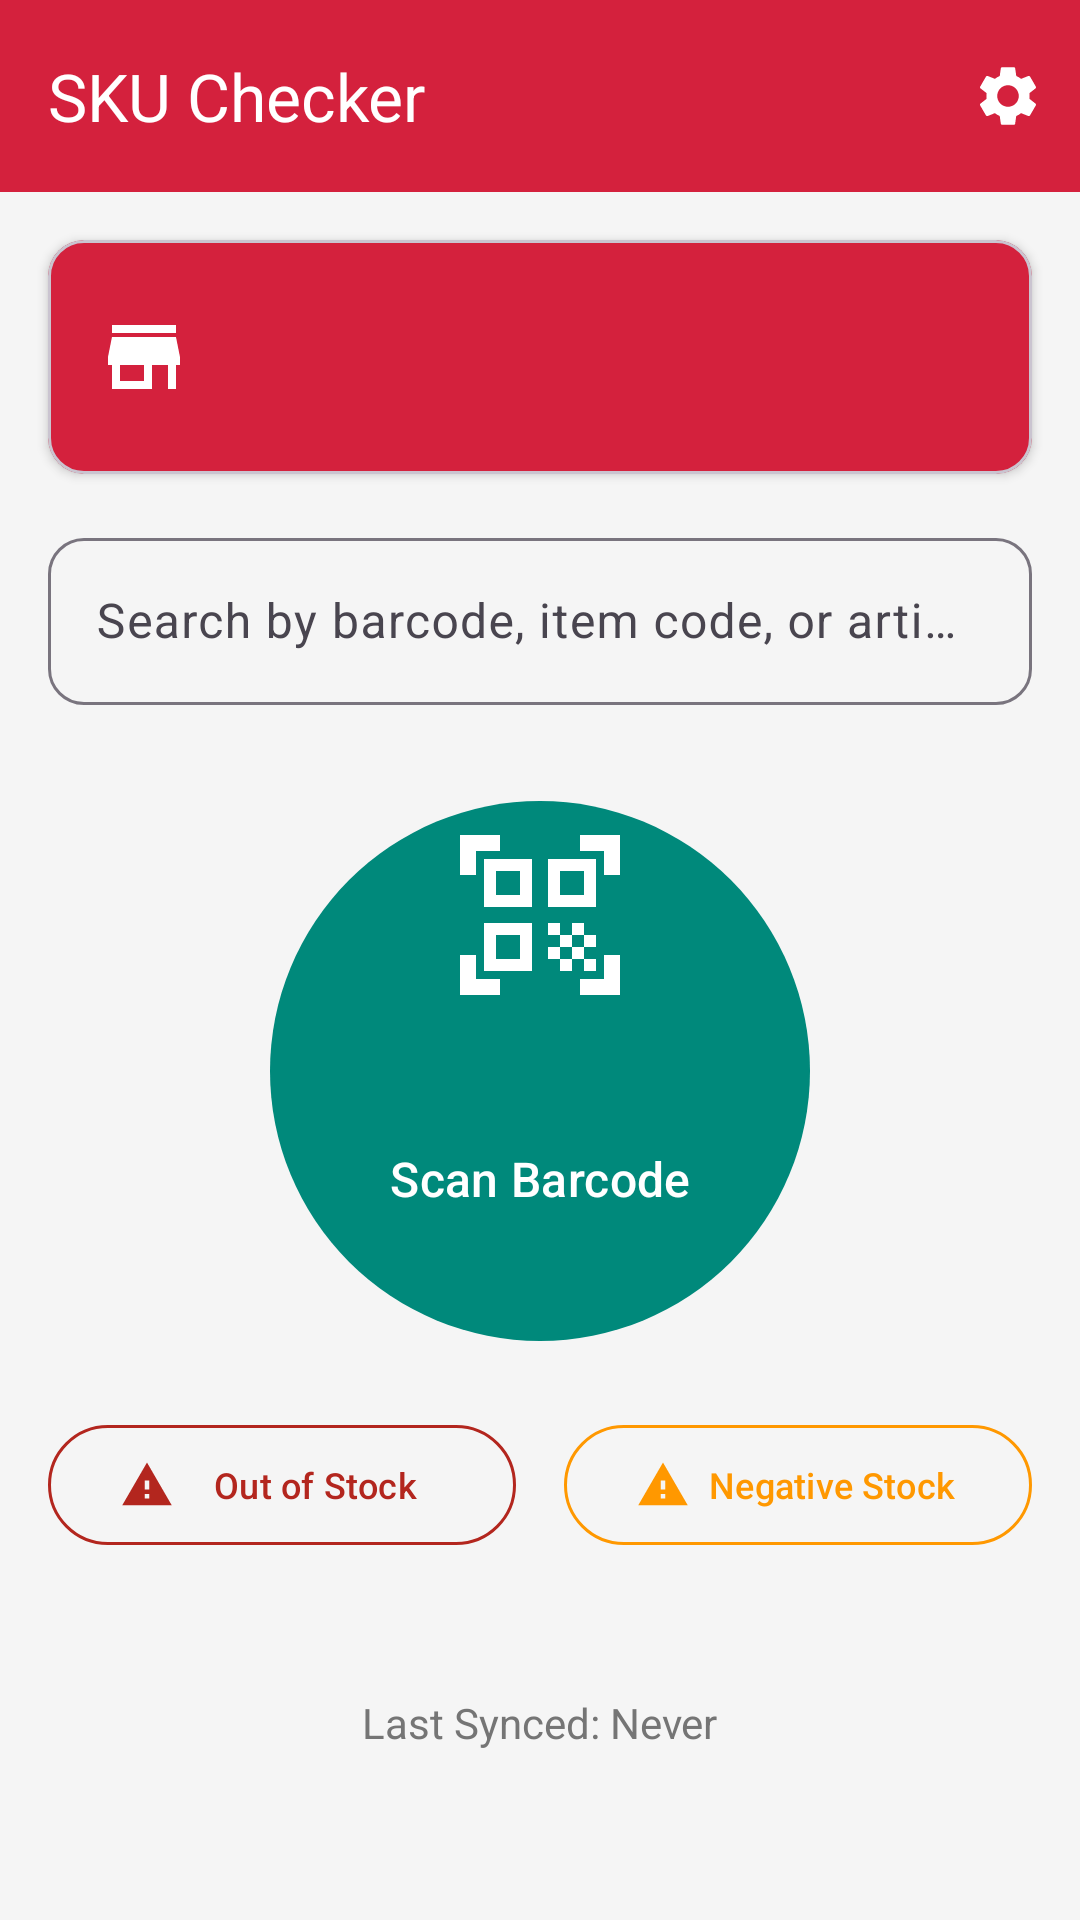

Locate icon controls on the screen. Image size 1080px x 1920px, boxes as (x1, y1, x2, y2).
Outlet: (108, 325, 180, 389)
